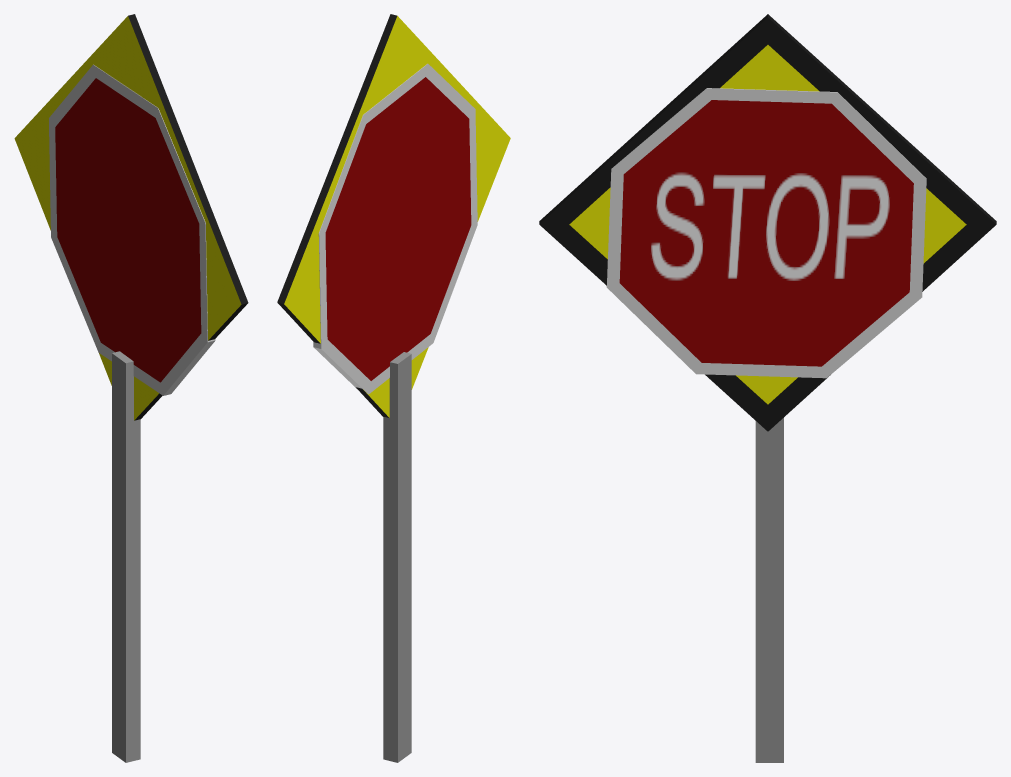
Rendered from signs.glb.
3 renders of one model, left to right at view 1: azimuth 30°, elevation 25°; view 2: azimuth 150°, elevation 25°; view 3: azimuth 270°, elevation 25°, orthographic.
Parts seen in each view (by area): view 1: stop_sign, yield_sign; view 2: stop_sign, yield_sign; view 3: stop_sign, yield_sign.
Part boxes in pixels (bbox=[...]): stop_sign: bbox=[49, 64, 215, 762]; yield_sign: bbox=[14, 14, 248, 760]; stop_sign: bbox=[313, 63, 477, 760]; yield_sign: bbox=[277, 14, 510, 762]; stop_sign: bbox=[606, 88, 926, 762]; yield_sign: bbox=[539, 14, 996, 762].
Size of what is drawn, in the model's own units: 0.0831 by 3.71 by 2.06.
5 materials, 2 textured.
